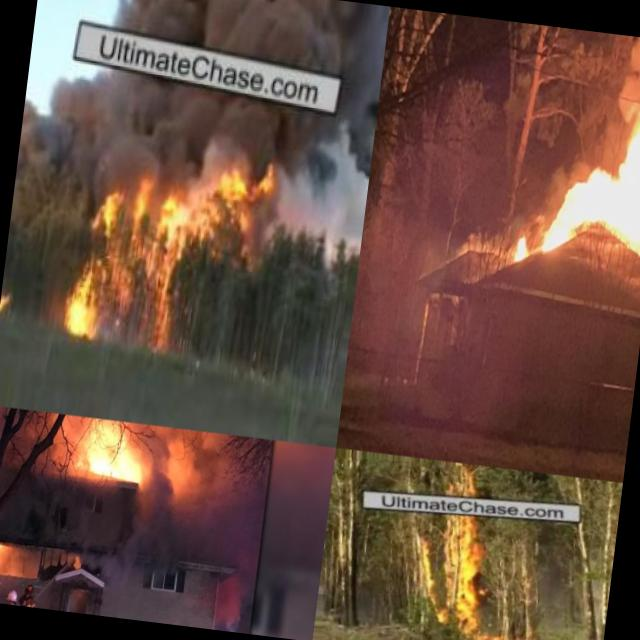fire: (57, 116, 271, 368), (396, 518, 500, 640), (552, 109, 640, 252), (73, 436, 146, 489), (506, 199, 558, 260), (0, 269, 20, 325), (0, 535, 7, 568)
smoke: (348, 133, 516, 400), (256, 130, 373, 270), (133, 468, 270, 580), (76, 542, 136, 592)
